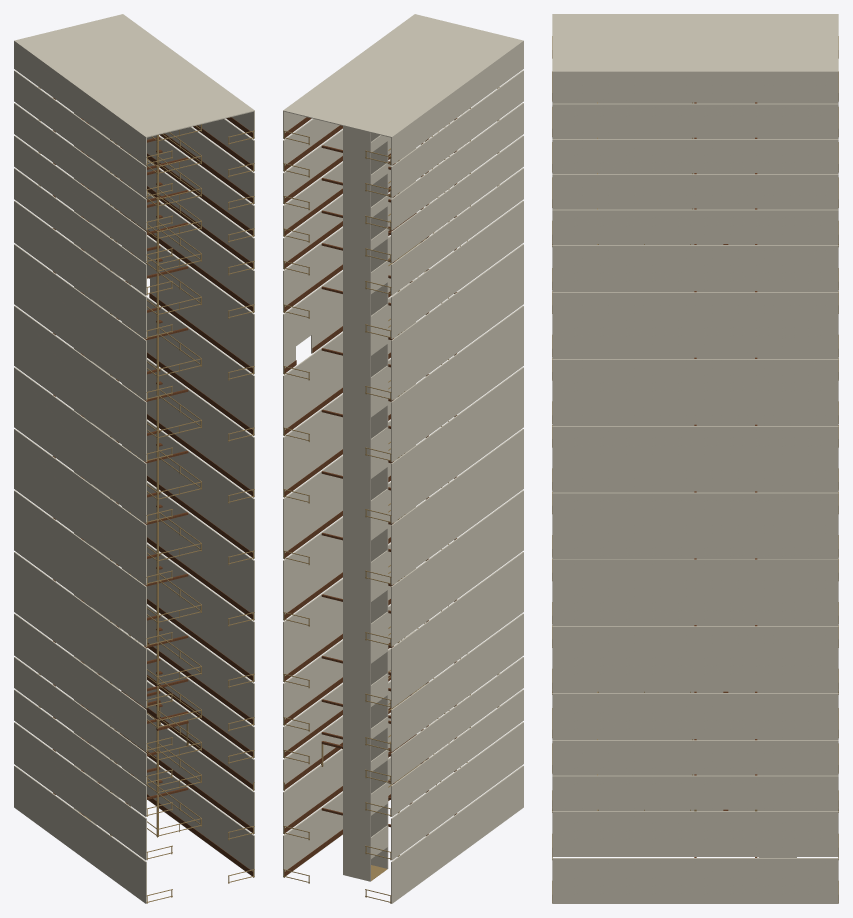
Rendered from ForeMidCoreEnclosure.glb.
3 views of the same model, side by side, from view 1: azimuth 30°, elevation 25°; view 2: azimuth 150°, elevation 25°; view 3: azimuth 270°, elevation 25° (orthographic). The views are drawn at different scales.
Visible parts, largest first — view 1: CORE_BATCH_ivory_enamel, CORE_BATCH_warm_walnut, CORE_BATCH_champagne_metal; view 2: CORE_BATCH_ivory_enamel, CORE_BATCH_warm_walnut, CORE_BATCH_champagne_metal; view 3: CORE_BATCH_ivory_enamel, CORE_BATCH_champagne_metal.
Boxes of the visible parts, x1,y1,x2,y2 form: CORE_BATCH_ivory_enamel: [14, 14, 254, 903]; CORE_BATCH_warm_walnut: [53, 97, 253, 875]; CORE_BATCH_champagne_metal: [38, 87, 254, 903]; CORE_BATCH_ivory_enamel: [283, 14, 523, 903]; CORE_BATCH_warm_walnut: [284, 117, 456, 875]; CORE_BATCH_champagne_metal: [283, 87, 499, 903]; CORE_BATCH_ivory_enamel: [552, 14, 838, 903]; CORE_BATCH_champagne_metal: [552, 36, 838, 902].
Size of the model in its own units: 15.76 by 106 by 33.08.
4 materials, 3 textured.
